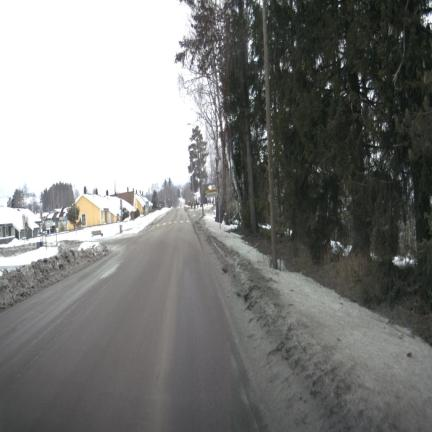Road: (0, 209, 259, 430)
